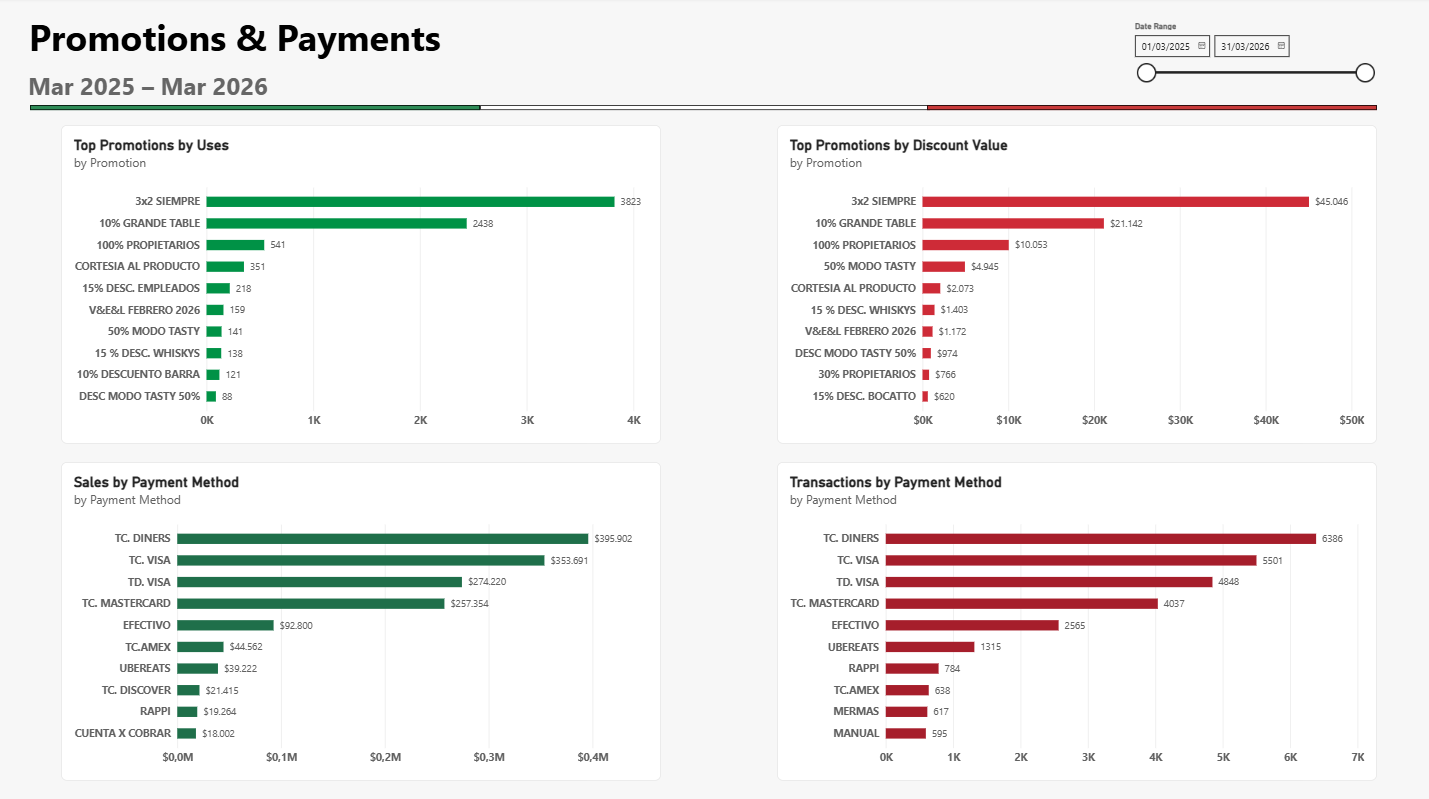

This screenshot's page, from the dashboard's own definition file:
{"tool":"powerbi","page":{"name":"Promotions and Payments","canvas":[1920,1080],"ordinal":1},"visuals":[{"type":"clusteredBarChart","fields":{"Category":["Promotions.Promotion"],"Y":["Calendar.Total Promotion Uses"]},"box":[82.9,170,800,425],"z":0},{"type":"clusteredBarChart","fields":{"Category":["Payments.Payment Method"],"Y":["Calendar.Total Payment Transactions"]},"box":[1037.1,620,800,425],"z":1000},{"type":"clusteredBarChart","fields":{"Category":["Promotions.Promotion"],"Y":["Calendar.Total Discounts"]},"box":[1037.1,170,800,425],"z":2000},{"type":"clusteredBarChart","fields":{"Category":["Payments.Payment Method"],"Y":["Calendar.Total Payment Sales"]},"box":[82.9,620,800,425],"z":3000},{"type":"textbox","box":[40,20,827.7,150.2],"z":4000},{"type":"textbox","box":[39.3,95.6,650.2,68.3],"z":5000},{"type":"shape","box":[40.7,143.8,600,6.8],"z":6000},{"type":"shape","box":[641.4,143.8,600,6.8],"z":7000},{"type":"shape","box":[1237.1,143.8,600,6.8],"z":8000},{"type":"slicer","fields":{"Values":["Calendar.Date"]},"box":[1507.1,31.4,331.1,87],"z":9000}]}

Visuals, with their boxes in screenshot pixels (x1, y1, x2, y2), scaled from the page's 1920x1080 canvas onto the 1429x799 screenshot:
clusteredBarChart - Promotions.Promotion x Calendar.Total Promotion Uses: 62/126/657/440
clusteredBarChart - Payments.Payment Method x Calendar.Total Payment Transactions: 772/459/1367/773
clusteredBarChart - Promotions.Promotion x Calendar.Total Discounts: 772/126/1367/440
clusteredBarChart - Payments.Payment Method x Calendar.Total Payment Sales: 62/459/657/773
textbox: 30/15/646/126
textbox: 29/71/513/121
shape: 30/106/477/111
shape: 477/106/924/111
shape: 921/106/1367/111
slicer - Calendar.Date: 1122/23/1368/88
